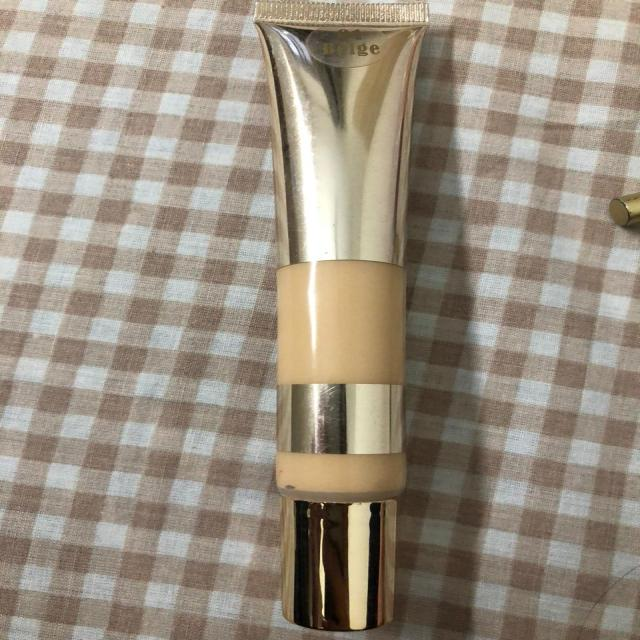bb cream: (258, 0, 436, 640)
